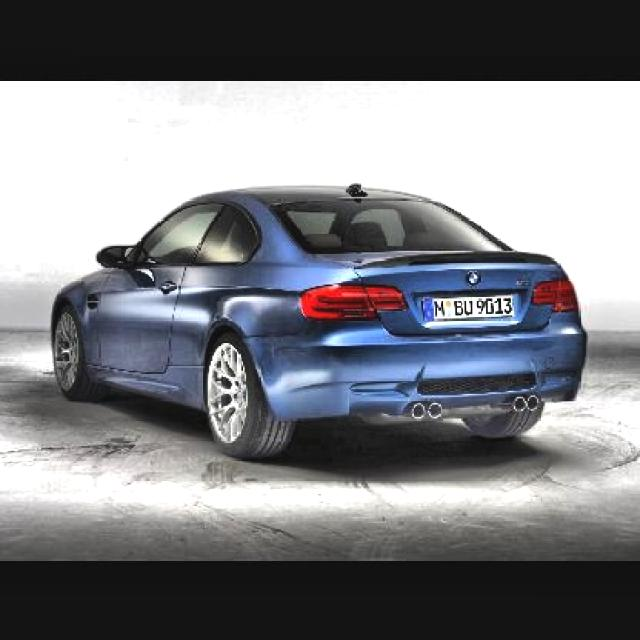blue: (26, 188, 586, 422)
